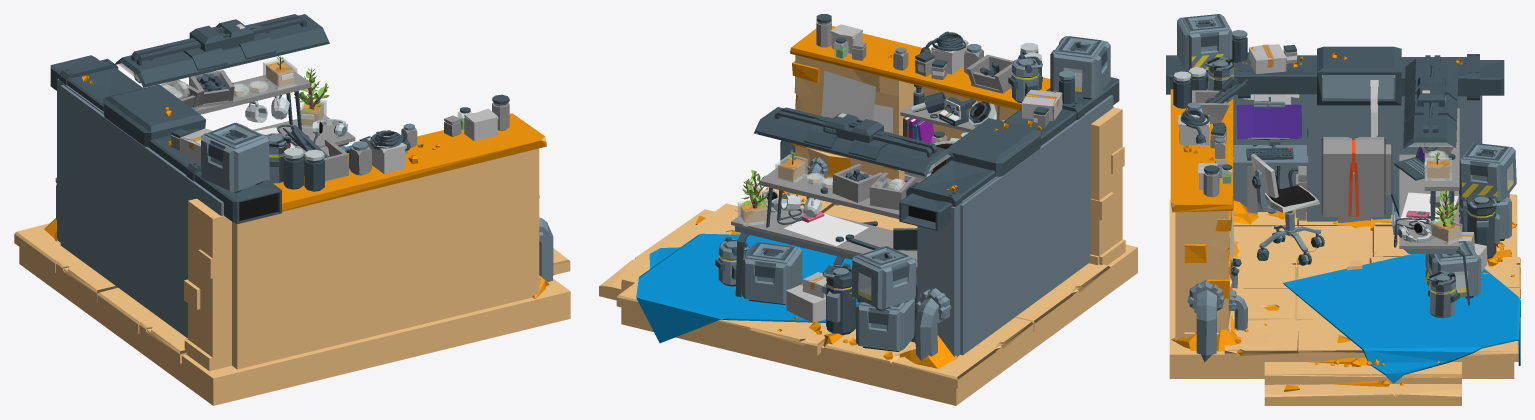
The model's file is room.1739669e.obj.
3 renders of one model, left to right at view 1: azimuth 30°, elevation 25°; view 2: azimuth 150°, elevation 25°; view 3: azimuth 270°, elevation 25°, orthographic. The views are drawn at different scales.
Parts seen in each view (by area): view 1: group1763104299, group1100343911, group987980187, group286800131, group259666405, group337026695, group166672997, group61219957, group2022069560, group389696598, group101322500, group92703077 (+23 smaller); view 2: group1100343911, group1899386574, group987980187, group286800131, group259666405, group337026695, group1819965688, group177251386, group61219957, group707679182, group1482947389, group975002159 (+42 smaller); view 3: group1899386574, group177251386, group1451214769, group1024795164, group61219957, group286800131, group987980187, group1819965688, group954819432, group337026695, group1048239680, group1557021028 (+52 smaller).
Part boxes in pixels (bbox=[...]): group1763104299: bbox=[232, 148, 539, 369]; group1100343911: bbox=[60, 85, 223, 338]; group987980187: bbox=[19, 247, 570, 405]; group286800131: bbox=[114, 14, 329, 87]; group259666405: bbox=[184, 198, 231, 370]; group337026695: bbox=[273, 113, 546, 211]; group166672997: bbox=[201, 122, 269, 192]; group61219957: bbox=[103, 84, 205, 147]; group2022069560: bbox=[194, 171, 281, 224]; group389696598: bbox=[59, 58, 143, 111]; group101322500: bbox=[14, 223, 75, 272]; group92703077: bbox=[195, 72, 310, 114]; group1100343911: bbox=[960, 95, 1113, 355]; group1899386574: bbox=[636, 233, 858, 343]; group987980187: bbox=[621, 244, 1137, 405]; group286800131: bbox=[754, 107, 953, 176]; group259666405: bbox=[996, 105, 1125, 265]; group337026695: bbox=[790, 26, 1050, 110]; group1819965688: bbox=[791, 55, 916, 181]; group177251386: bbox=[917, 145, 1040, 356]; group61219957: bbox=[945, 118, 1040, 176]; group707679182: bbox=[852, 246, 916, 310]; group1482947389: bbox=[742, 242, 802, 304]; group975002159: bbox=[731, 201, 917, 275]; group1899386574: bbox=[1283, 254, 1520, 383]; group177251386: bbox=[1307, 75, 1482, 221]; group1451214769: bbox=[1321, 137, 1392, 220]; group1024795164: bbox=[1231, 257, 1397, 320]; group61219957: bbox=[1317, 46, 1401, 105]; group286800131: bbox=[1403, 55, 1458, 150]; group987980187: bbox=[1169, 199, 1514, 378]; group1819965688: bbox=[1184, 211, 1232, 339]; group954819432: bbox=[1264, 384, 1461, 405]; group337026695: bbox=[1170, 89, 1233, 212]; group1048239680: bbox=[1233, 101, 1308, 165]; group1557021028: bbox=[1264, 362, 1461, 384].
Bounding box in the file's own units: 3.66 × 2.15 × 3.06.
